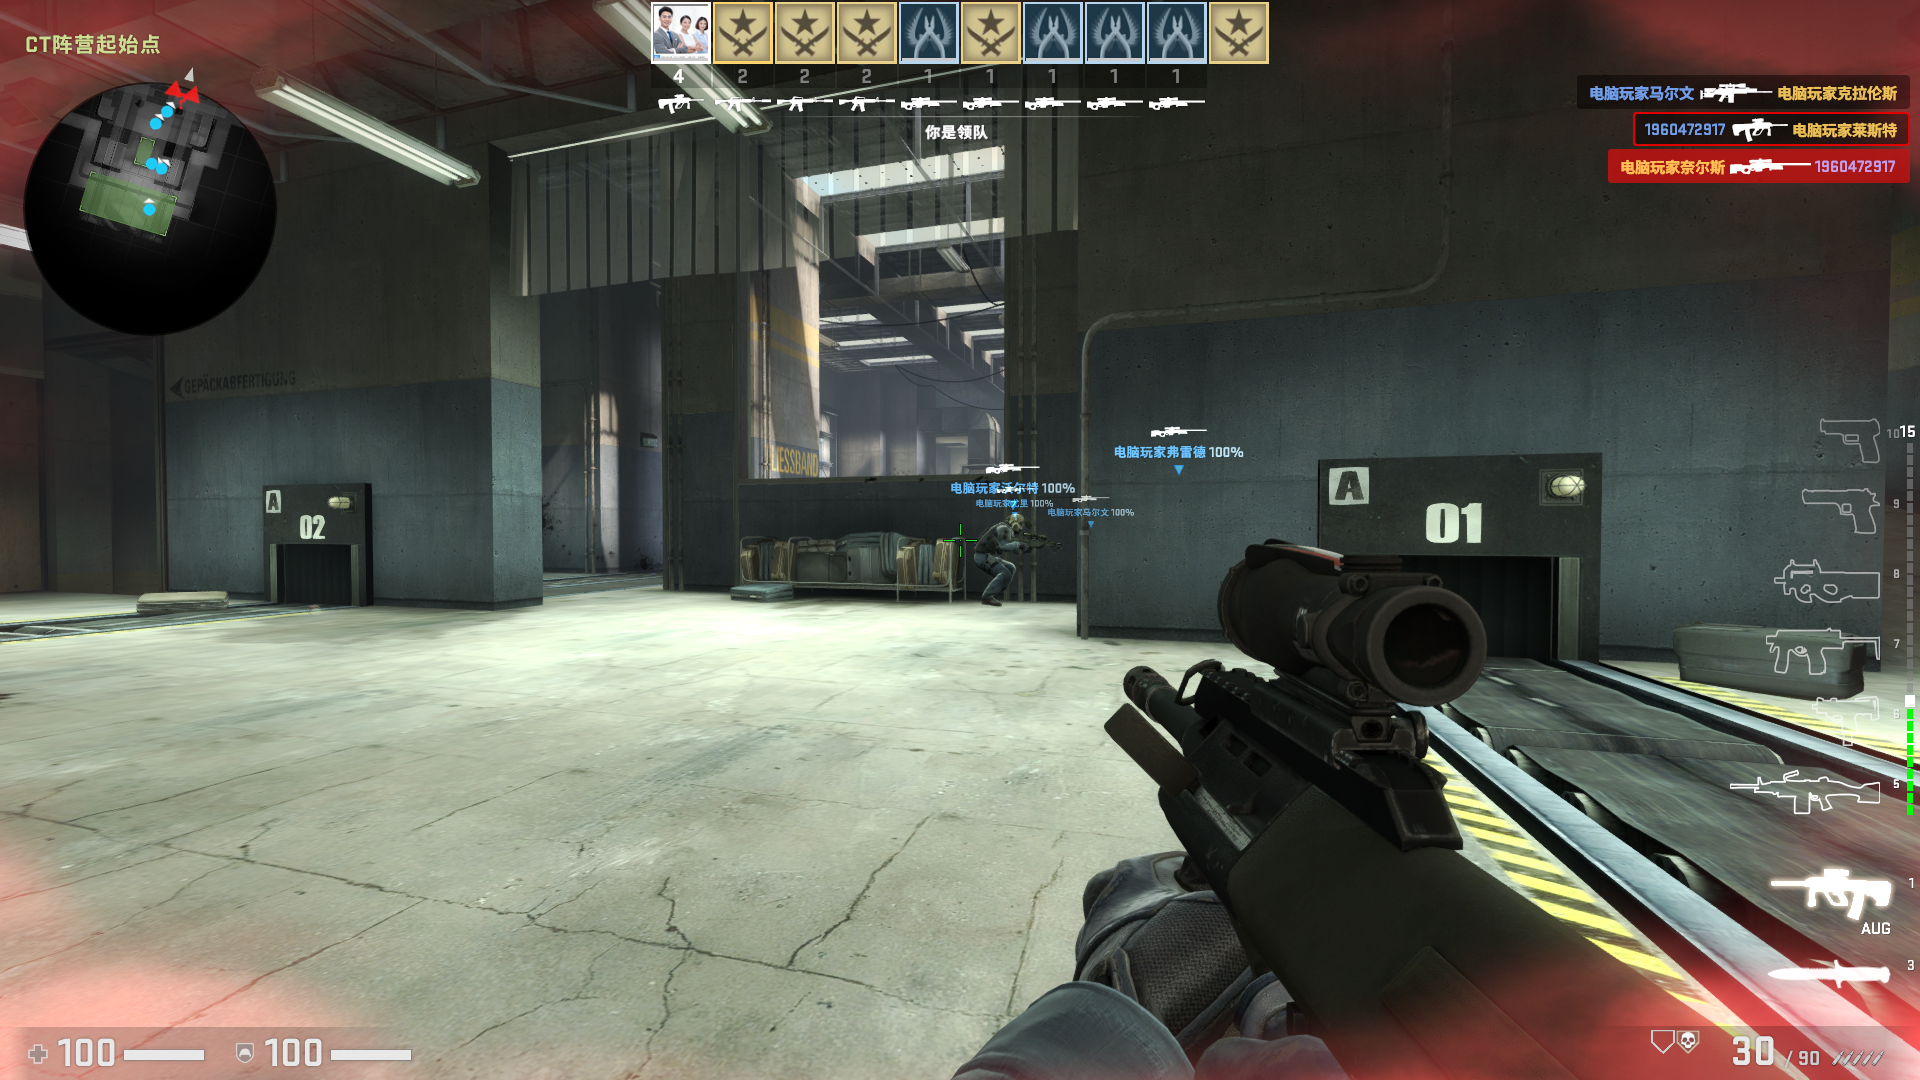person: (974, 516, 1032, 610)
